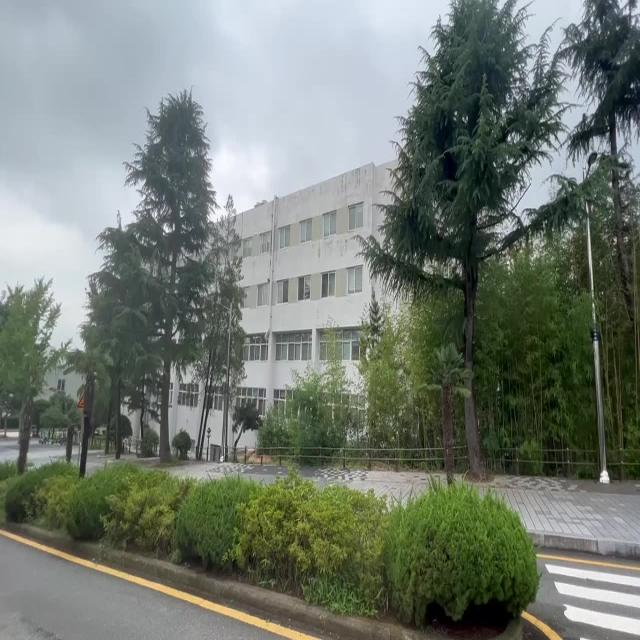building: (262, 165, 367, 382)
